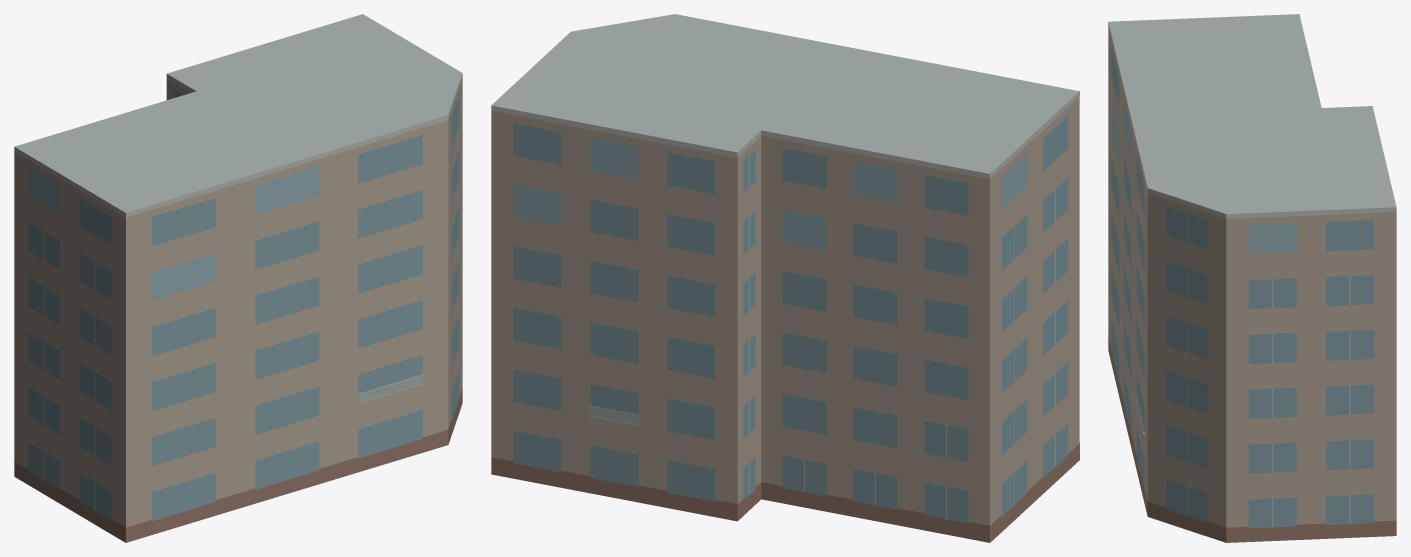
The model's file is survey-upis-32664877.glb.
3 renders of one model, left to right at view 1: azimuth 30°, elevation 25°; view 2: azimuth 150°, elevation 25°; view 3: azimuth 270°, elevation 25°, orthographic. The views are drawn at different scales.
Parts seen in each view (by area): view 1: survey-upis-32664877.tmp; view 2: survey-upis-32664877.tmp; view 3: survey-upis-32664877.tmp.
Part boxes in pixels (x1,y1,x2,y2): survey-upis-32664877.tmp: (14,14,462,542); survey-upis-32664877.tmp: (491,14,1079,542); survey-upis-32664877.tmp: (1108,14,1396,542).
Size of the model in its own units: 21.56 by 16.5 by 13.12.
